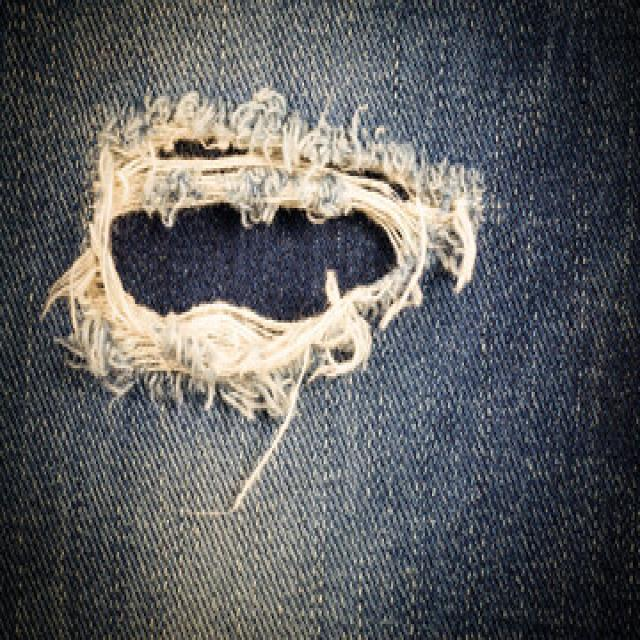Hole: (45, 88, 484, 419)
